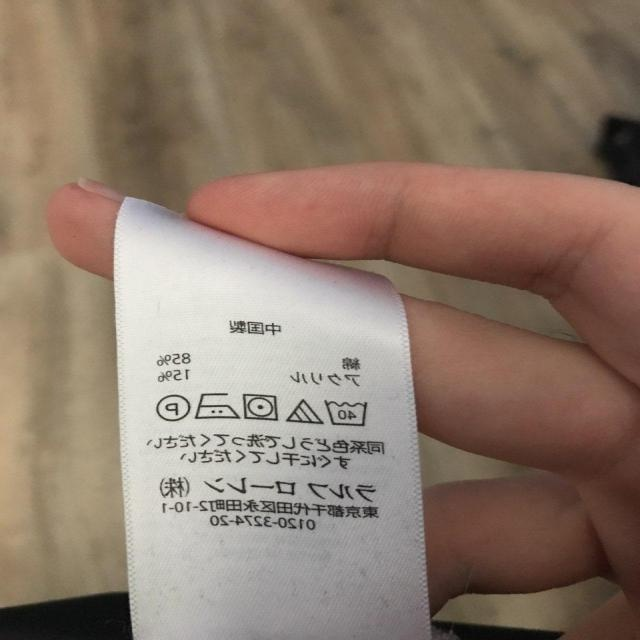40C: (321, 396, 373, 430)
dry_clean_any_solvent_except_trichloroethylene: (154, 393, 191, 421)
iron_medium: (191, 390, 238, 421)
non_chlorine_bleach: (285, 397, 325, 429)
tumble_dry_low: (239, 390, 281, 425)
